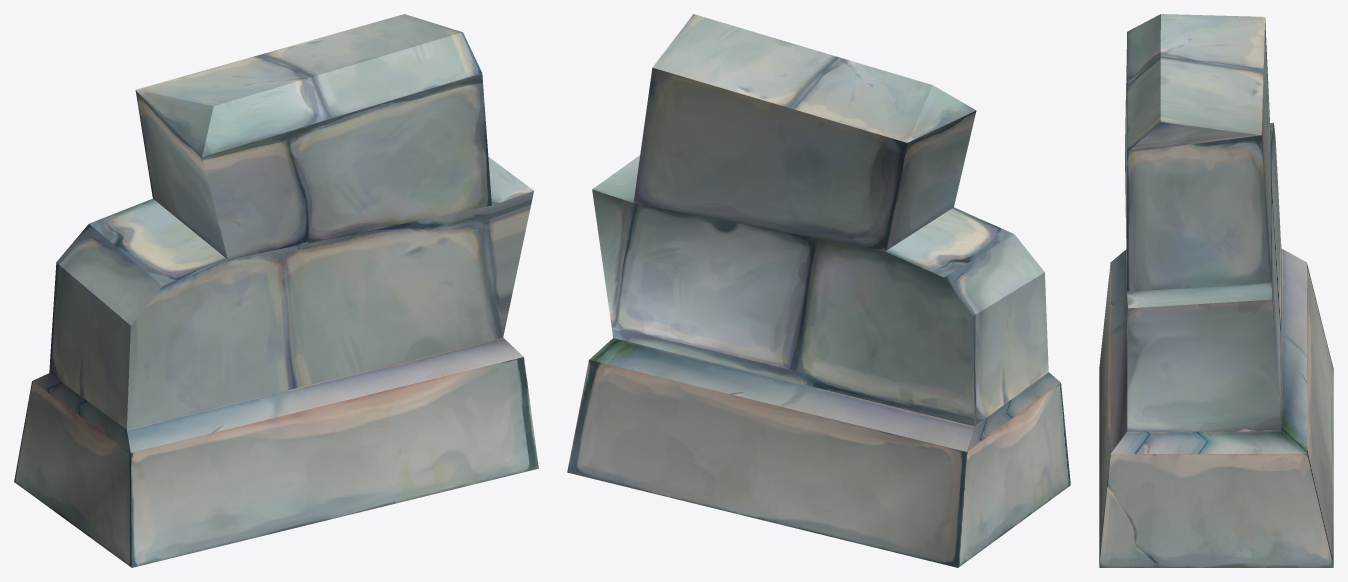
The model's file is temple_obstacle_03_broken.fbx.
3 renders of one model, left to right at view 1: azimuth 30°, elevation 25°; view 2: azimuth 150°, elevation 25°; view 3: azimuth 270°, elevation 25°, orthographic. The views are drawn at different scales.
Visible parts, largest first — view 1: geo_Temple_Stair_LP.015; view 2: geo_Temple_Stair_LP.015; view 3: geo_Temple_Stair_LP.015.
Part boxes in pixels (x1,y1,x2,y2): geo_Temple_Stair_LP.015: (14, 14, 538, 567); geo_Temple_Stair_LP.015: (567, 14, 1070, 567); geo_Temple_Stair_LP.015: (1099, 14, 1333, 567).
Size of the model in its own units: 2.05 by 1.99 by 1.
